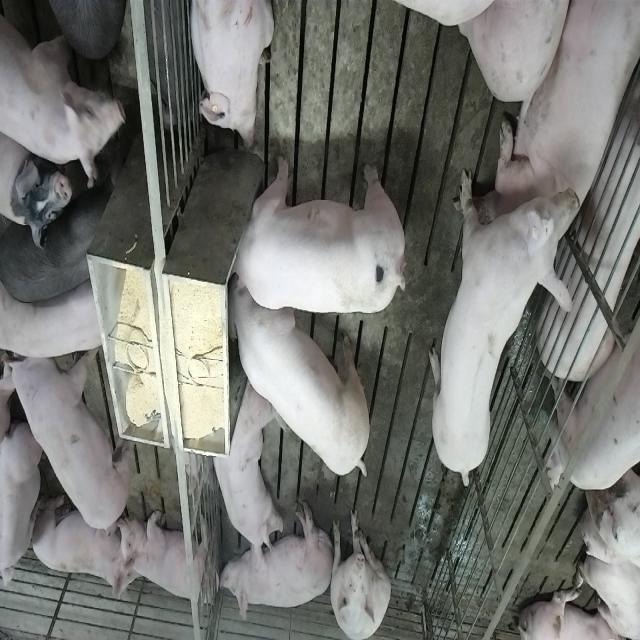Feeding: (228, 278, 375, 480), (222, 154, 400, 316)
Lateral_lying: (216, 500, 334, 625)
Sitting: (328, 504, 391, 638)
Standing: (430, 150, 580, 482), (5, 338, 132, 538), (2, 0, 127, 189), (546, 289, 640, 488), (0, 174, 114, 308), (1, 277, 114, 363)
Sternal_lying: (496, 0, 640, 263), (207, 380, 282, 570), (187, 0, 275, 152), (28, 488, 136, 600), (125, 507, 216, 607)
